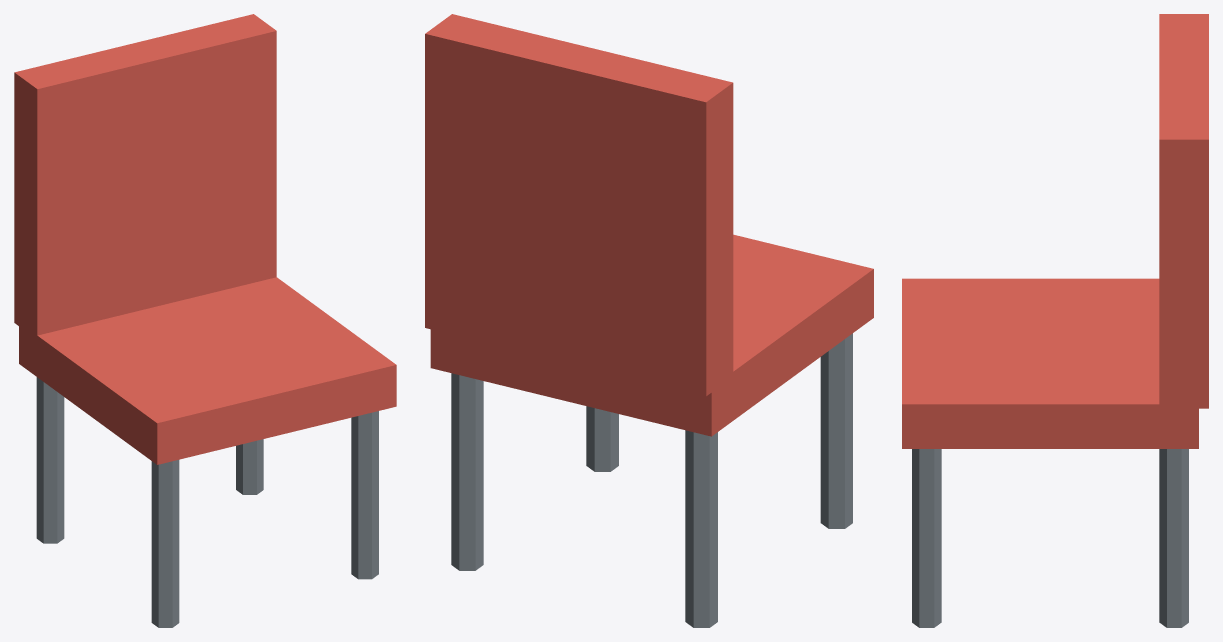
Rendered from chair.glb.
The picture shows the model from 3 angles, left to right: view 1: azimuth 30°, elevation 25°; view 2: azimuth 150°, elevation 25°; view 3: azimuth 270°, elevation 25°; orthographic projection. The views are drawn at different scales.
Parts seen in each view (by area): view 1: Cube.001; view 2: Cube.001; view 3: Cube.001.
Part boxes in pixels (x1,y1,x2,y2): Cube.001: (14,14,396,627); Cube.001: (425,14,873,627); Cube.001: (902,14,1208,627).
Size of the model in its own units: 0.6 by 1.1 by 0.62.
